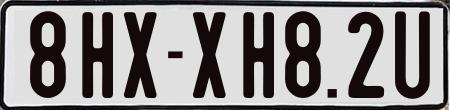2: (347, 11, 384, 102)
8: (29, 8, 69, 101), (284, 10, 322, 99)
H: (79, 9, 114, 96), (241, 11, 273, 98)
U: (393, 10, 429, 98)
X: (193, 12, 232, 100), (123, 12, 157, 99)
